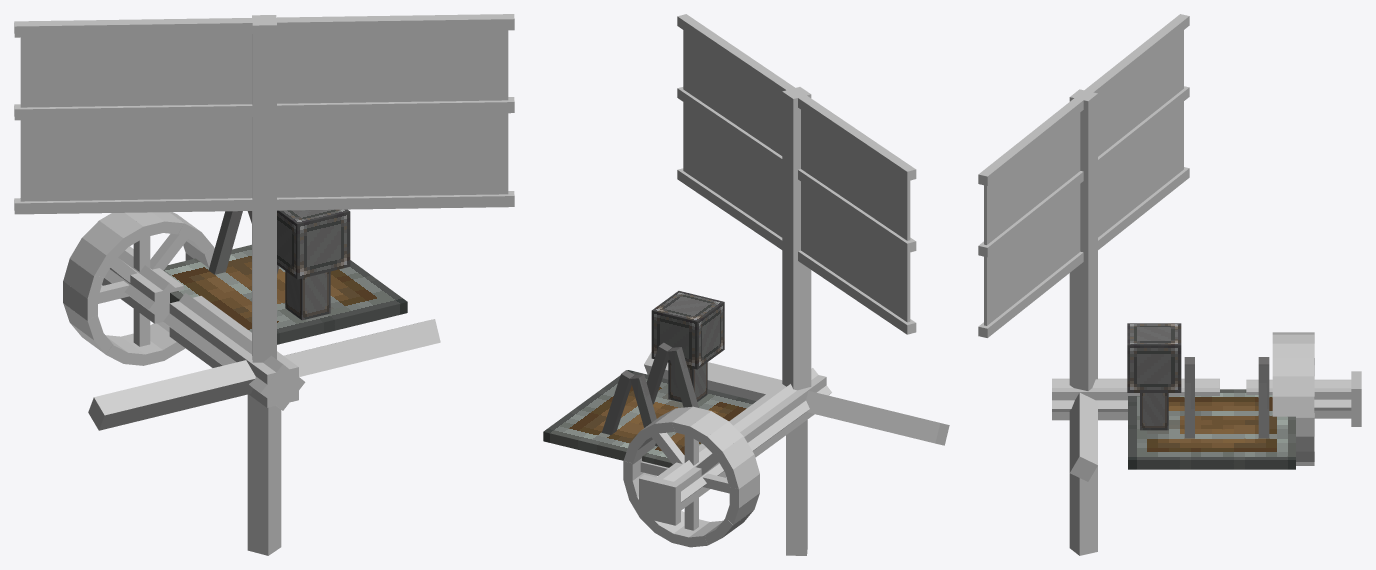
Rendered from windmill_generator.obj.
The picture shows the model from 3 angles, left to right: view 1: azimuth 30°, elevation 25°; view 2: azimuth 150°, elevation 25°; view 3: azimuth 270°, elevation 25°; orthographic projection. The views are drawn at different scales.
Visible parts, largest first — view 1: blade, axle, base, wheel; view 2: blade, axle, base, wheel; view 3: blade, base, axle, wheel.
Part boxes in pixels (x1,y1,x2,y2): blade: [14, 14, 514, 214]; axle: [88, 202, 440, 555]; base: [163, 209, 407, 344]; wheel: [63, 212, 214, 365]; blade: [677, 14, 916, 334]; axle: [644, 245, 949, 555]; base: [543, 291, 756, 467]; wheel: [623, 406, 759, 547]; blade: [978, 14, 1189, 337]; base: [1127, 323, 1295, 469]; axle: [1052, 246, 1219, 555]; wheel: [1246, 332, 1361, 465].
Size of the model in its own units: 2.29 by 2.99 by 2.28.
